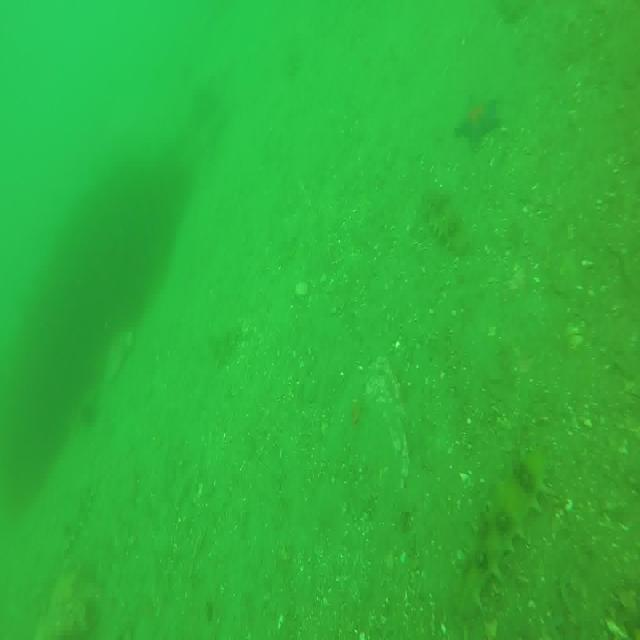holothurian: (454, 444, 550, 623), (422, 186, 469, 258)
starfish: (456, 96, 503, 148)
